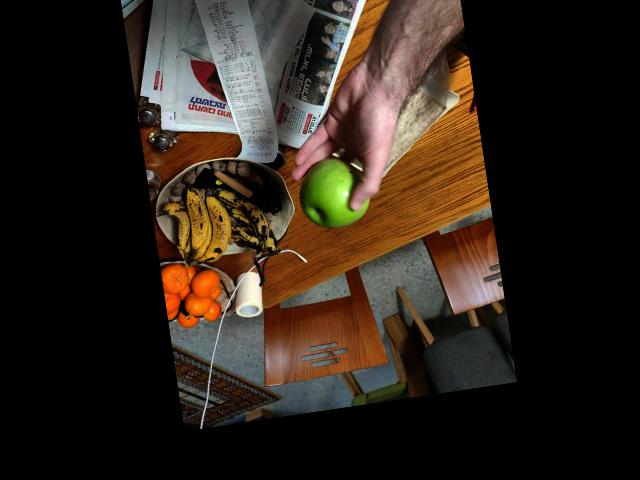apple: (295, 150, 376, 234)
